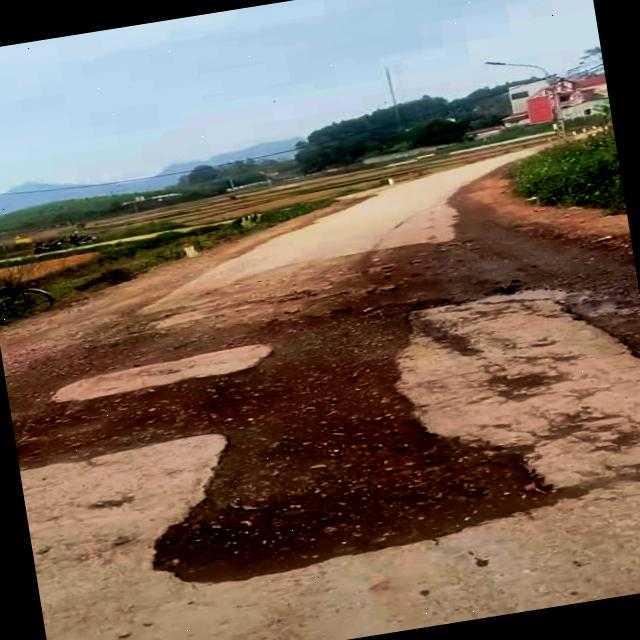pothole: (123, 319, 578, 596)
